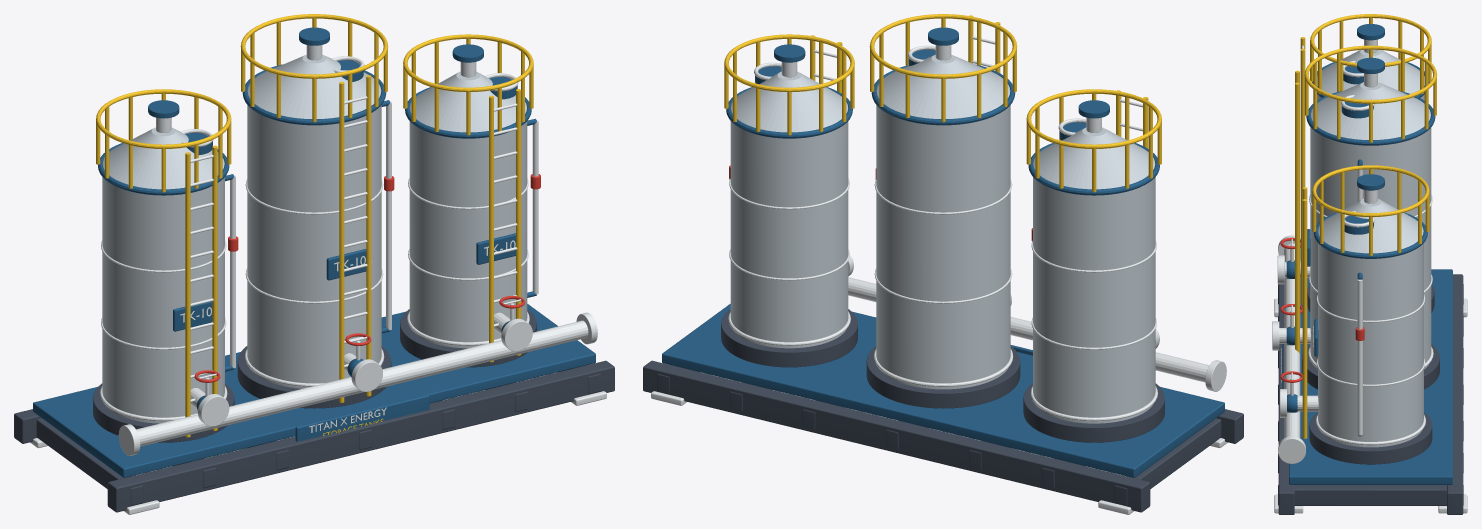
The model's file is storage-tanks.glb.
3 views of the same model, side by side, from view 1: azimuth 30°, elevation 25°; view 2: azimuth 150°, elevation 25°; view 3: azimuth 270°, elevation 25° (orthographic). The views are drawn at different scales.
Parts seen in each view (by area): view 1: TK-102 Tank Shell, TK-101 Tank Shell, TK-103 Tank Shell, Tank Foundation Deck, Main Skid Beam, Main Outlet Header, TK-102 Conical Roof, TK-101 Conical Roof, TK-103 Conical Roof, Main System Nameplate, Cross Member, TK-102 Ladder Rail (+24 smaller); view 2: TK-102 Tank Shell, TK-101 Tank Shell, TK-103 Tank Shell, Tank Foundation Deck, Main Skid Beam.001, TK-102 Conical Roof, TK-101 Conical Roof, TK-103 Conical Roof, TK-102 Base Ring, TK-101 Base Ring, TK-103 Base Ring, Cross Member (+9 smaller); view 3: TK-103 Tank Shell, Tank Foundation Deck, TK-102 Tank Shell, TK-102 Conical Roof, Cross Member.006, TK-103 Conical Roof, Main Skid Beam.001, TK-103 Base Ring, TK-101 Conical Roof, Main Outlet Header, TK-103 Ladder Rail.001, Main Skid Beam (+23 smaller).
Boxes of the visible parts, box(x1,y1,x2,y2) form: TK-102 Tank Shell: box(247, 105, 381, 388); TK-101 Tank Shell: box(102, 177, 224, 423); TK-103 Tank Shell: box(409, 121, 527, 348); Tank Foundation Deck: box(33, 304, 595, 477); Main Skid Beam: box(107, 360, 614, 512); Main Outlet Header: box(136, 320, 588, 446); TK-102 Conical Roof: box(247, 54, 381, 118); TK-101 Conical Roof: box(102, 127, 224, 189); TK-103 Conical Roof: box(410, 71, 526, 132); Main System Nameplate: box(295, 394, 429, 441); Cross Member: box(36, 418, 143, 505); TK-102 Ladder Rail: box(339, 81, 344, 402); TK-102 Tank Shell: box(876, 105, 1010, 389); TK-101 Tank Shell: box(1033, 177, 1155, 423); TK-103 Tank Shell: box(730, 121, 848, 348); Tank Foundation Deck: box(662, 304, 1224, 477); Main Skid Beam.001: box(643, 360, 1150, 512); TK-102 Conical Roof: box(876, 54, 1010, 118); TK-101 Conical Roof: box(1033, 127, 1155, 189); TK-103 Conical Roof: box(731, 71, 847, 132); TK-102 Base Ring: box(866, 346, 1020, 408); TK-101 Base Ring: box(1023, 383, 1164, 442); TK-103 Base Ring: box(721, 309, 857, 367); Cross Member: box(1114, 418, 1221, 505); TK-103 Tank Shell: box(1318, 243, 1423, 447); Tank Foundation Deck: box(1289, 269, 1452, 484); TK-102 Tank Shell: box(1310, 127, 1431, 369); TK-102 Conical Roof: box(1311, 82, 1430, 139); Cross Member.006: box(1278, 485, 1463, 505); TK-103 Conical Roof: box(1318, 198, 1423, 253); Main Skid Beam.001: box(1447, 274, 1463, 514); TK-103 Base Ring: box(1309, 412, 1432, 464); TK-101 Conical Roof: box(1317, 50, 1424, 93); Main Outlet Header: box(1284, 243, 1300, 438); TK-103 Ladder Rail.001: box(1302, 199, 1307, 438); Main Skid Beam: box(1278, 284, 1294, 514).
Bounding box in the file's own units: 4.8 × 3.53 × 1.81.
